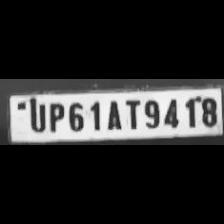1: (86, 98, 102, 132), (182, 96, 198, 128)
4: (161, 96, 181, 130)
6: (64, 100, 86, 132)
8: (198, 95, 218, 127)
9: (141, 96, 161, 130)
A: (102, 97, 122, 131)
P: (46, 100, 64, 134)
T: (122, 97, 140, 130)
U: (26, 100, 46, 132)
